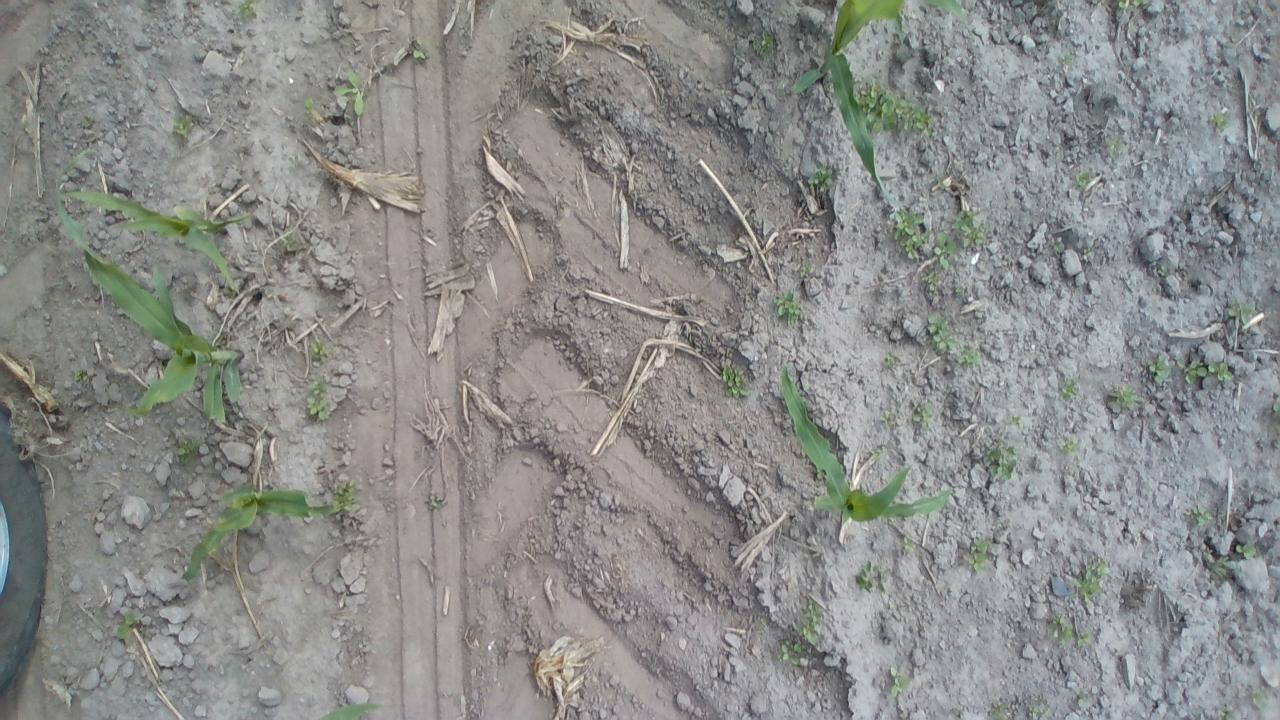Maize: (52, 140, 254, 422), (788, 2, 968, 226), (778, 360, 958, 531), (64, 170, 252, 295), (182, 479, 356, 586), (312, 698, 388, 720)
Weeds: (857, 80, 935, 141), (891, 207, 931, 262), (976, 442, 1018, 482), (1074, 556, 1110, 602), (790, 598, 824, 644), (953, 208, 988, 251), (303, 371, 331, 423), (334, 68, 366, 113), (924, 312, 959, 351), (774, 289, 802, 327), (721, 366, 753, 398), (752, 28, 782, 62), (171, 432, 203, 463), (856, 564, 890, 592), (331, 478, 362, 508), (1043, 611, 1071, 644), (931, 230, 955, 268), (274, 226, 304, 256), (1185, 501, 1215, 531), (966, 538, 992, 572), (169, 109, 199, 138), (116, 609, 146, 637), (908, 400, 933, 433), (1111, 384, 1141, 411), (1144, 353, 1170, 383), (407, 36, 436, 62), (806, 166, 834, 192), (1226, 298, 1254, 324), (889, 662, 910, 696), (175, 279, 202, 305), (922, 268, 948, 294), (1246, 685, 1270, 712), (778, 640, 804, 664), (957, 342, 980, 369), (308, 337, 330, 365), (1206, 553, 1230, 576), (425, 494, 451, 515), (1180, 363, 1206, 384), (879, 405, 900, 431), (1233, 541, 1259, 562), (1026, 701, 1056, 719), (1074, 627, 1094, 652), (1072, 168, 1094, 190), (1210, 359, 1232, 380), (986, 704, 1014, 720), (1207, 110, 1229, 130), (236, 0, 258, 19), (1114, 0, 1152, 11), (794, 260, 814, 280), (1060, 378, 1079, 399), (882, 350, 902, 369), (67, 364, 85, 385), (1056, 437, 1078, 453), (1106, 140, 1124, 159), (1217, 706, 1241, 720), (866, 444, 884, 462), (284, 155, 298, 177), (1054, 55, 1076, 69), (902, 535, 918, 552), (1006, 414, 1024, 429), (1154, 262, 1170, 278), (1050, 242, 1068, 256), (302, 97, 321, 110), (1077, 692, 1093, 706), (1083, 247, 1097, 261), (956, 285, 970, 299), (1273, 398, 1280, 420)
